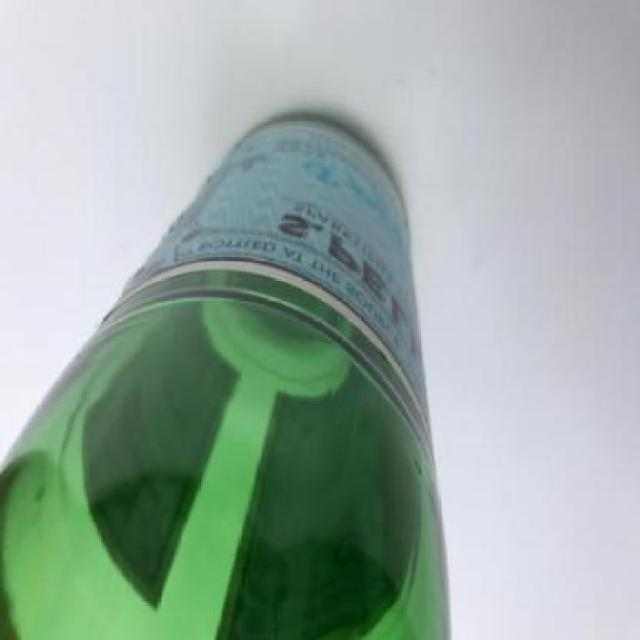glass: (0, 116, 449, 638)
